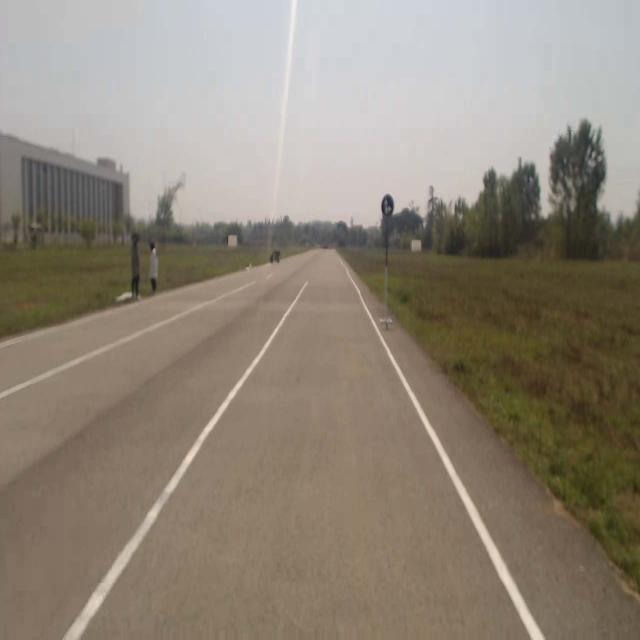ilerisag: (382, 195, 394, 217)
